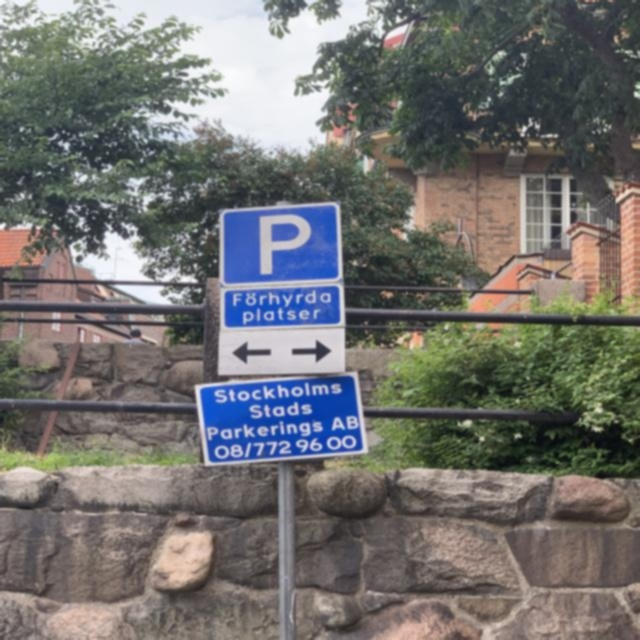P-skylt: (216, 199, 344, 291)
